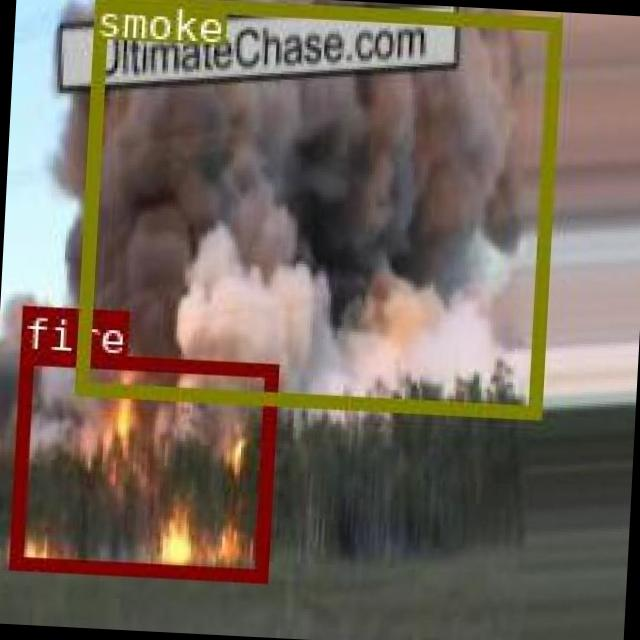fire: (8, 350, 276, 580)
smoke: (75, 0, 558, 417)
